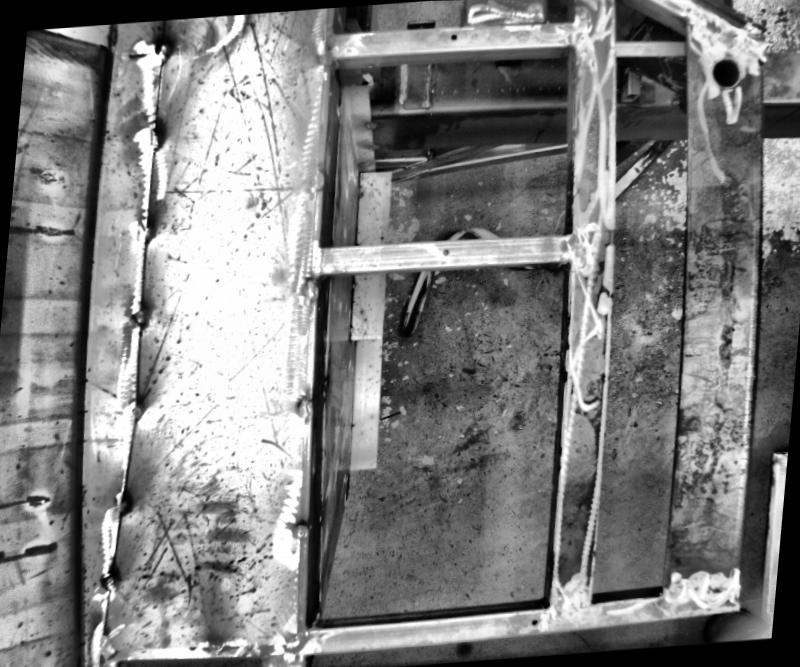hole: (708, 53, 742, 86), (530, 616, 539, 624), (450, 31, 458, 39), (440, 247, 449, 253)
